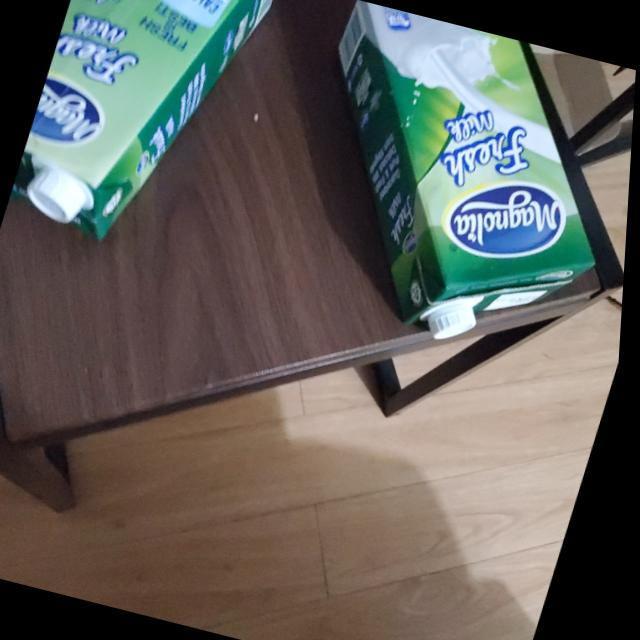milk: (257, 0, 640, 372), (8, 0, 287, 264)
